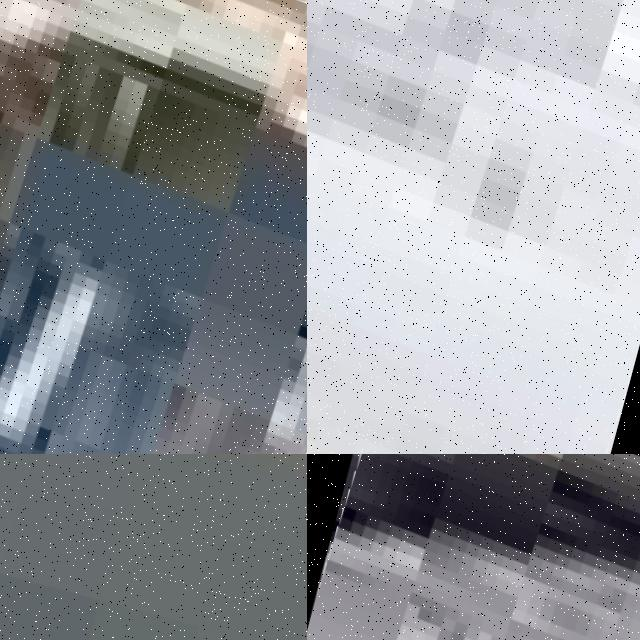0: (0, 0, 307, 454), (307, 454, 640, 640)
drone: (307, 0, 640, 454)
